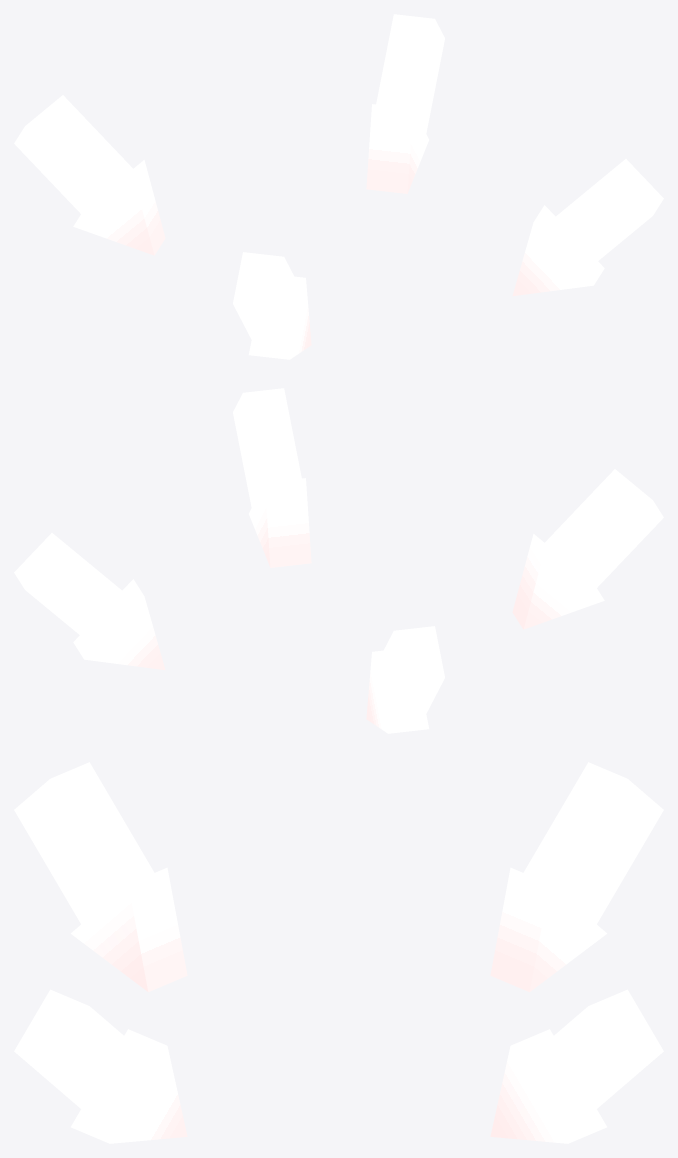
The model's file is sfx_taget_tagger2.glb.
3 views of the same model, one above another, from view 1: azimuth 30°, elevation 25°; view 2: azimuth 150°, elevation 25°; view 3: azimuth 270°, elevation 25° (orthographic). The views are drawn at different scales.
Parts seen in each view (by area): view 1: sfx_taget_tagger2_obj1, sfx_taget_tagger2_obj2, sfx_taget_tagger2_obj4, sfx_taget_tagger2_obj3; view 2: sfx_taget_tagger2_obj3, sfx_taget_tagger2_obj4, sfx_taget_tagger2_obj2, sfx_taget_tagger2_obj1; view 3: sfx_taget_tagger2_obj1, sfx_taget_tagger2_obj3, sfx_taget_tagger2_obj2, sfx_taget_tagger2_obj4.
Part boxes in pixels (x1=…): sfx_taget_tagger2_obj1: x1=14, y1=95, x2=165, y2=255; sfx_taget_tagger2_obj2: x1=512, y1=159, x2=663, y2=296; sfx_taget_tagger2_obj4: x1=366, y1=14, x2=444, y2=193; sfx_taget_tagger2_obj3: x1=233, y1=252, x2=311, y2=359; sfx_taget_tagger2_obj3: x1=512, y1=469, x2=663, y2=629; sfx_taget_tagger2_obj4: x1=14, y1=533, x2=165, y2=670; sfx_taget_tagger2_obj2: x1=233, y1=388, x2=311, y2=567; sfx_taget_tagger2_obj1: x1=366, y1=626, x2=444, y2=733; sfx_taget_tagger2_obj1: x1=490, y1=762, x2=663, y2=992; sfx_taget_tagger2_obj3: x1=14, y1=762, x2=187, y2=992; sfx_taget_tagger2_obj2: x1=14, y1=989, x2=187, y2=1143; sfx_taget_tagger2_obj4: x1=490, y1=989, x2=663, y2=1143.
Size of the model in its own units: 1.05 by 0.3068 by 1.05.
Materials: 1 (1 with a texture image).
